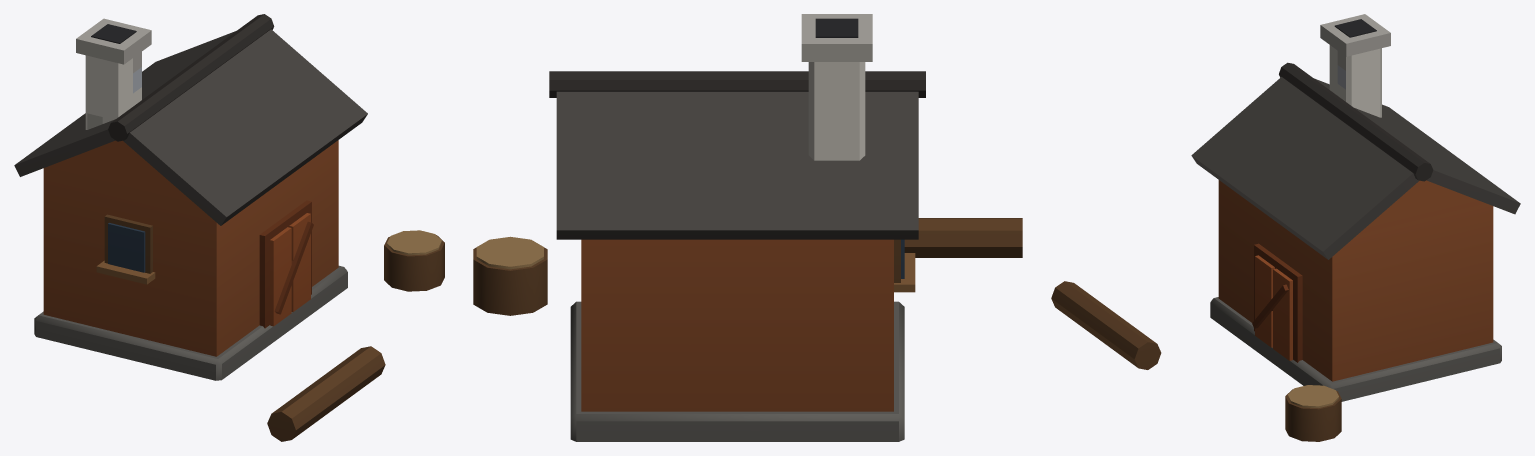
File: building_2.glb
3 renders of one model, left to right at view 1: azimuth 30°, elevation 25°; view 2: azimuth 150°, elevation 25°; view 3: azimuth 270°, elevation 25°, orthographic. The views are drawn at different scales.
Visible parts, largest first — view 1: building_2; view 2: building_2; view 3: building_2.
Part boxes in pixels (x1=…): building_2: x1=14, y1=14, x2=444, y2=441; building_2: x1=473, y1=14, x2=1022, y2=441; building_2: x1=1051, y1=14, x2=1520, y2=441.
Size of the model in its own units: 0.8023 by 0.59 by 0.9095.
